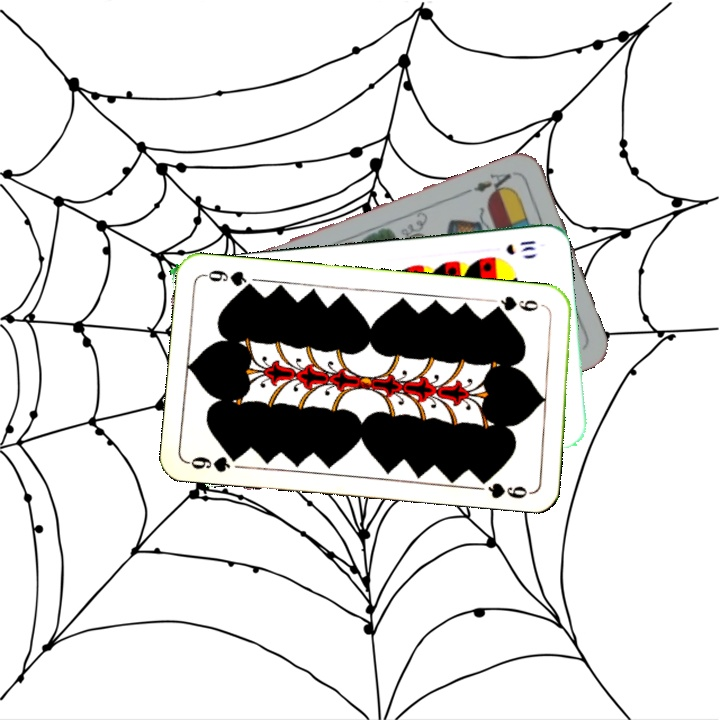EA: (462, 169, 515, 199)
G9: (184, 449, 244, 475), (489, 291, 541, 314)
S10: (501, 236, 538, 257)
